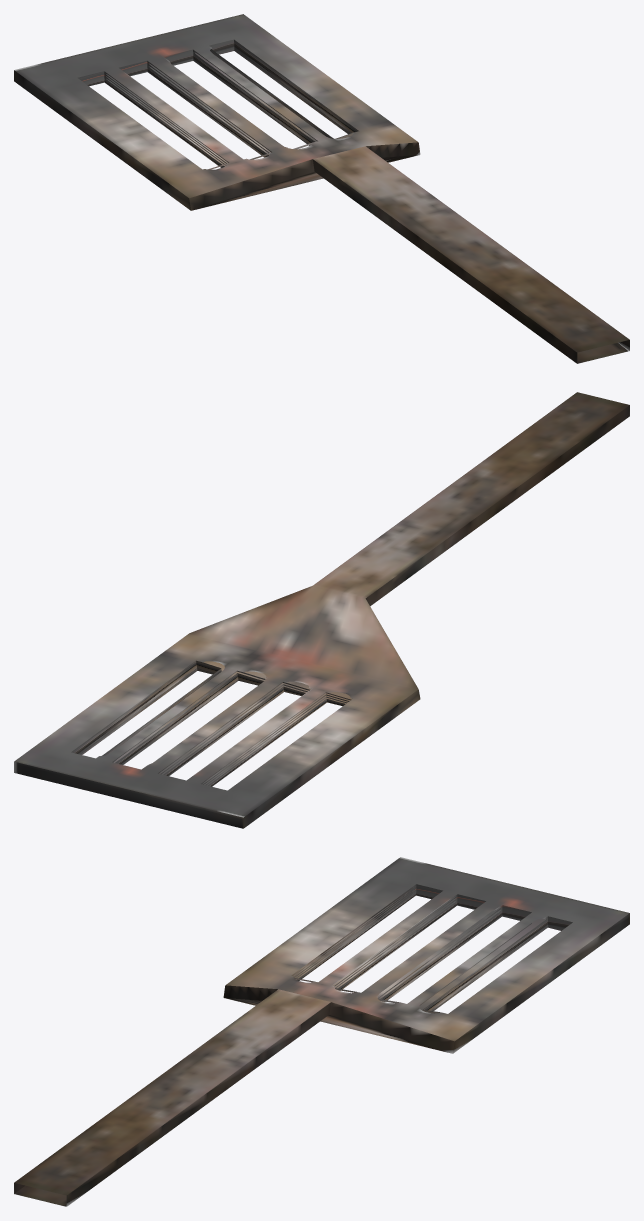
Rendered from Spatuler.fbx.
3 renders of one model, top to bottom at view 1: azimuth 30°, elevation 25°; view 2: azimuth 150°, elevation 25°; view 3: azimuth 330°, elevation 25°, orthographic.
Visible parts, largest first — view 1: Cube.001; view 2: Cube.001; view 3: Cube.001.
Boxes of the visible parts, left/top/right/bottom form: Cube.001: left=14, top=14, right=629, bottom=363; Cube.001: left=14, top=392, right=629, bottom=828; Cube.001: left=14, top=857, right=629, bottom=1206.
Bounding box in the file's own units: 24.39 × 5.56 × 87.44.
